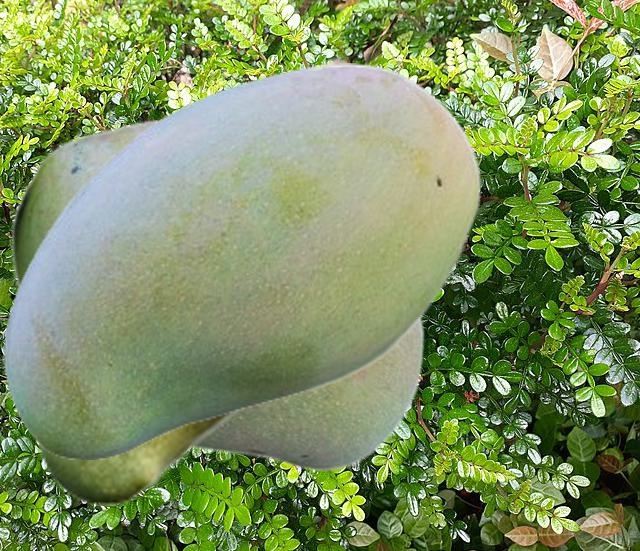green_mango: (3, 63, 481, 458), (31, 55, 361, 504), (10, 118, 424, 471)
